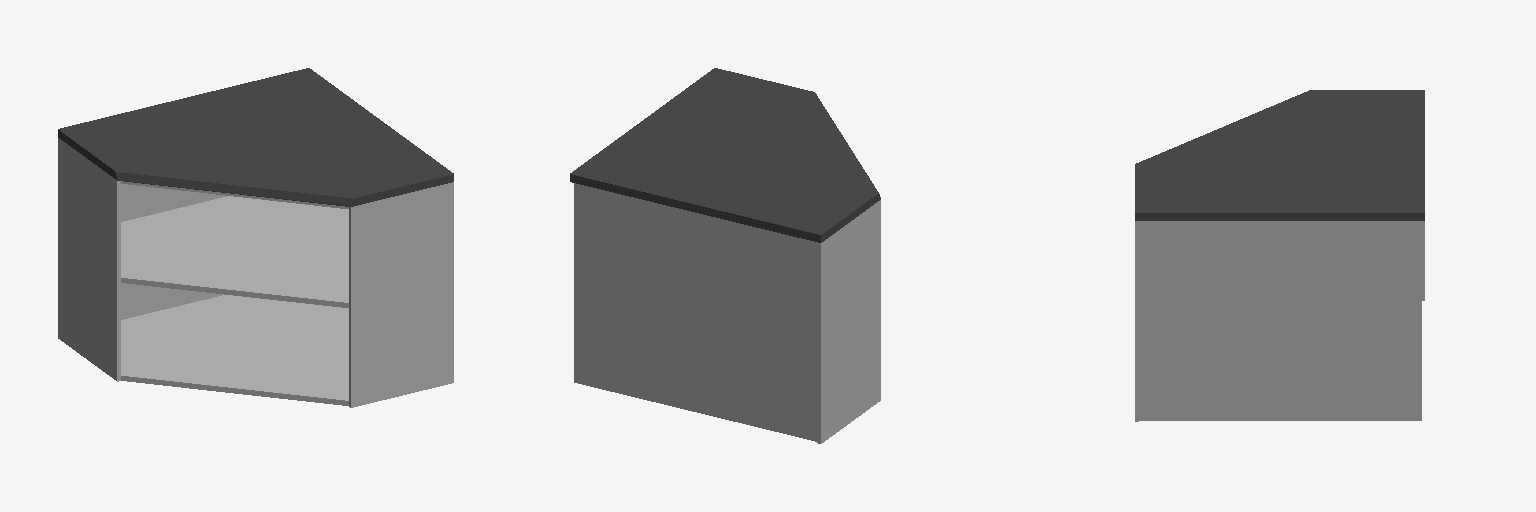
The model's file is UpperCorner2.obj.
The picture shows the model from 3 angles: view 1: azimuth 30°, elevation 25°; view 2: azimuth 150°, elevation 25°; view 3: azimuth 270°, elevation 25°; orthographic projection.
Parts seen in each view (by area): view 1: frame, top, shelf, back; view 2: back, top, frame; view 3: back, top, frame.
Part boxes in pixels (x1,y1,x2,y2): frame: (58,138,453,407); top: (58,68,453,206); shelf: (121,196,348,307); back: (121,184,226,319); back: (574,183,816,441); top: (570,68,880,242); frame: (817,200,880,443); back: (1139,221,1421,420); top: (1135,90,1424,220); frame: (1135,221,1424,421).
Bounding box in the file's own units: 99.5 × 79 × 99.5.